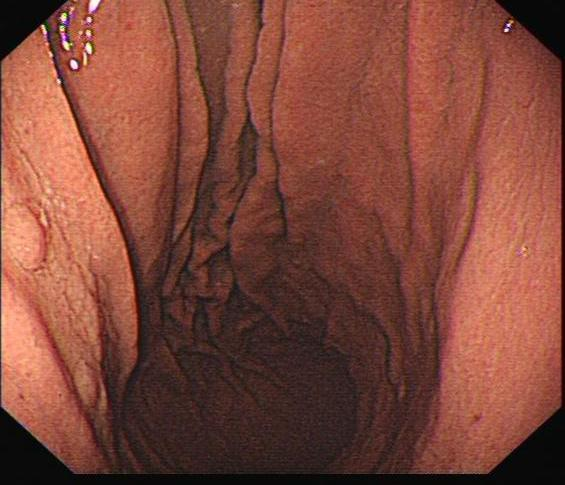Polyp: (4, 202, 59, 276)
